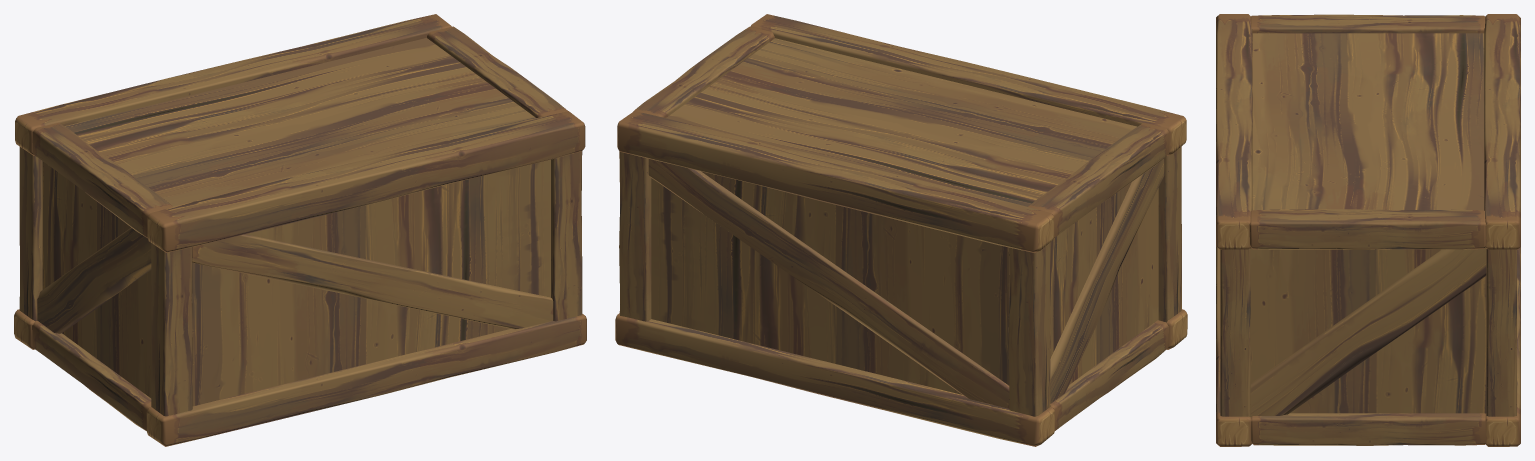
Rendered from SM_PROP_crate_town_03.fbx.
3 views of the same model, side by side, from view 1: azimuth 30°, elevation 25°; view 2: azimuth 150°, elevation 25°; view 3: azimuth 270°, elevation 25° (orthographic).
Parts seen in each view (by area): view 1: SM_PROP_crate_town_03_LOD0; view 2: SM_PROP_crate_town_03_LOD0; view 3: SM_PROP_crate_town_03_LOD0.
Boxes of the visible parts, x1,y1,x2,y2 form: SM_PROP_crate_town_03_LOD0: (14,14,586,446); SM_PROP_crate_town_03_LOD0: (615,14,1187,446); SM_PROP_crate_town_03_LOD0: (1216,14,1520,446).
Size of what is drawn, in the model's own units: 160 by 80.21 by 98.01.
